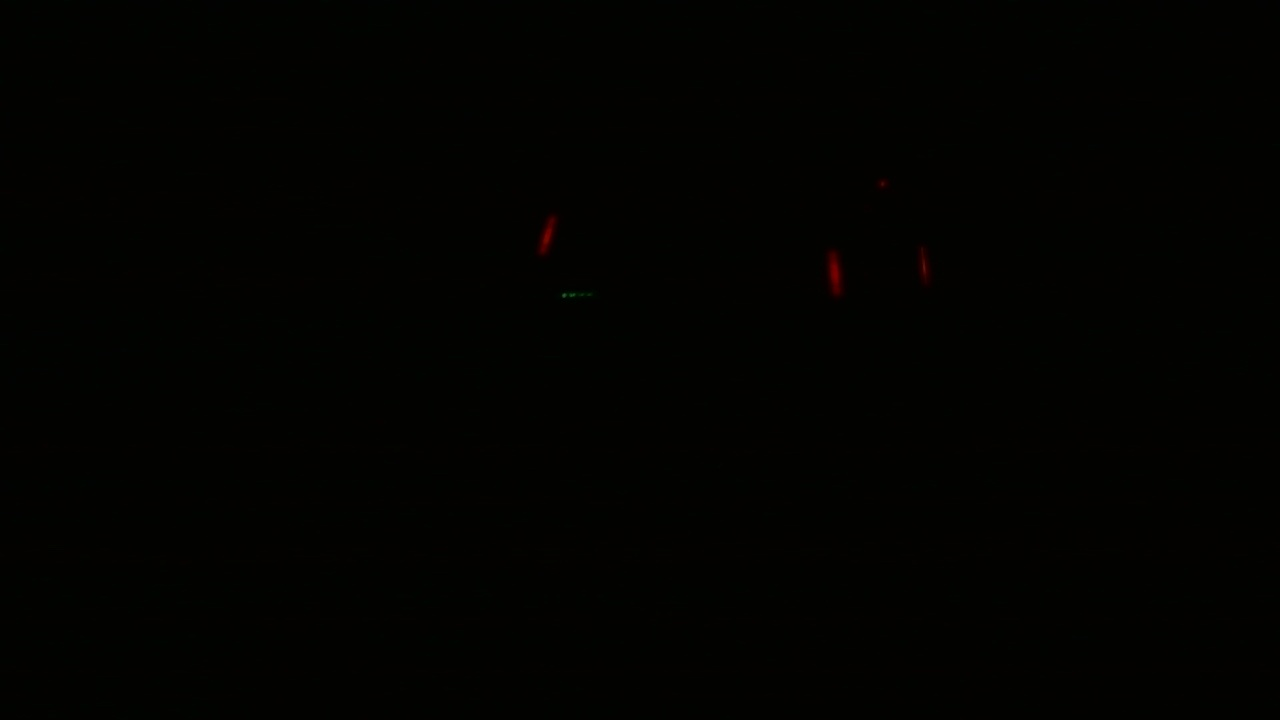pair1: (824, 246, 932, 291)
